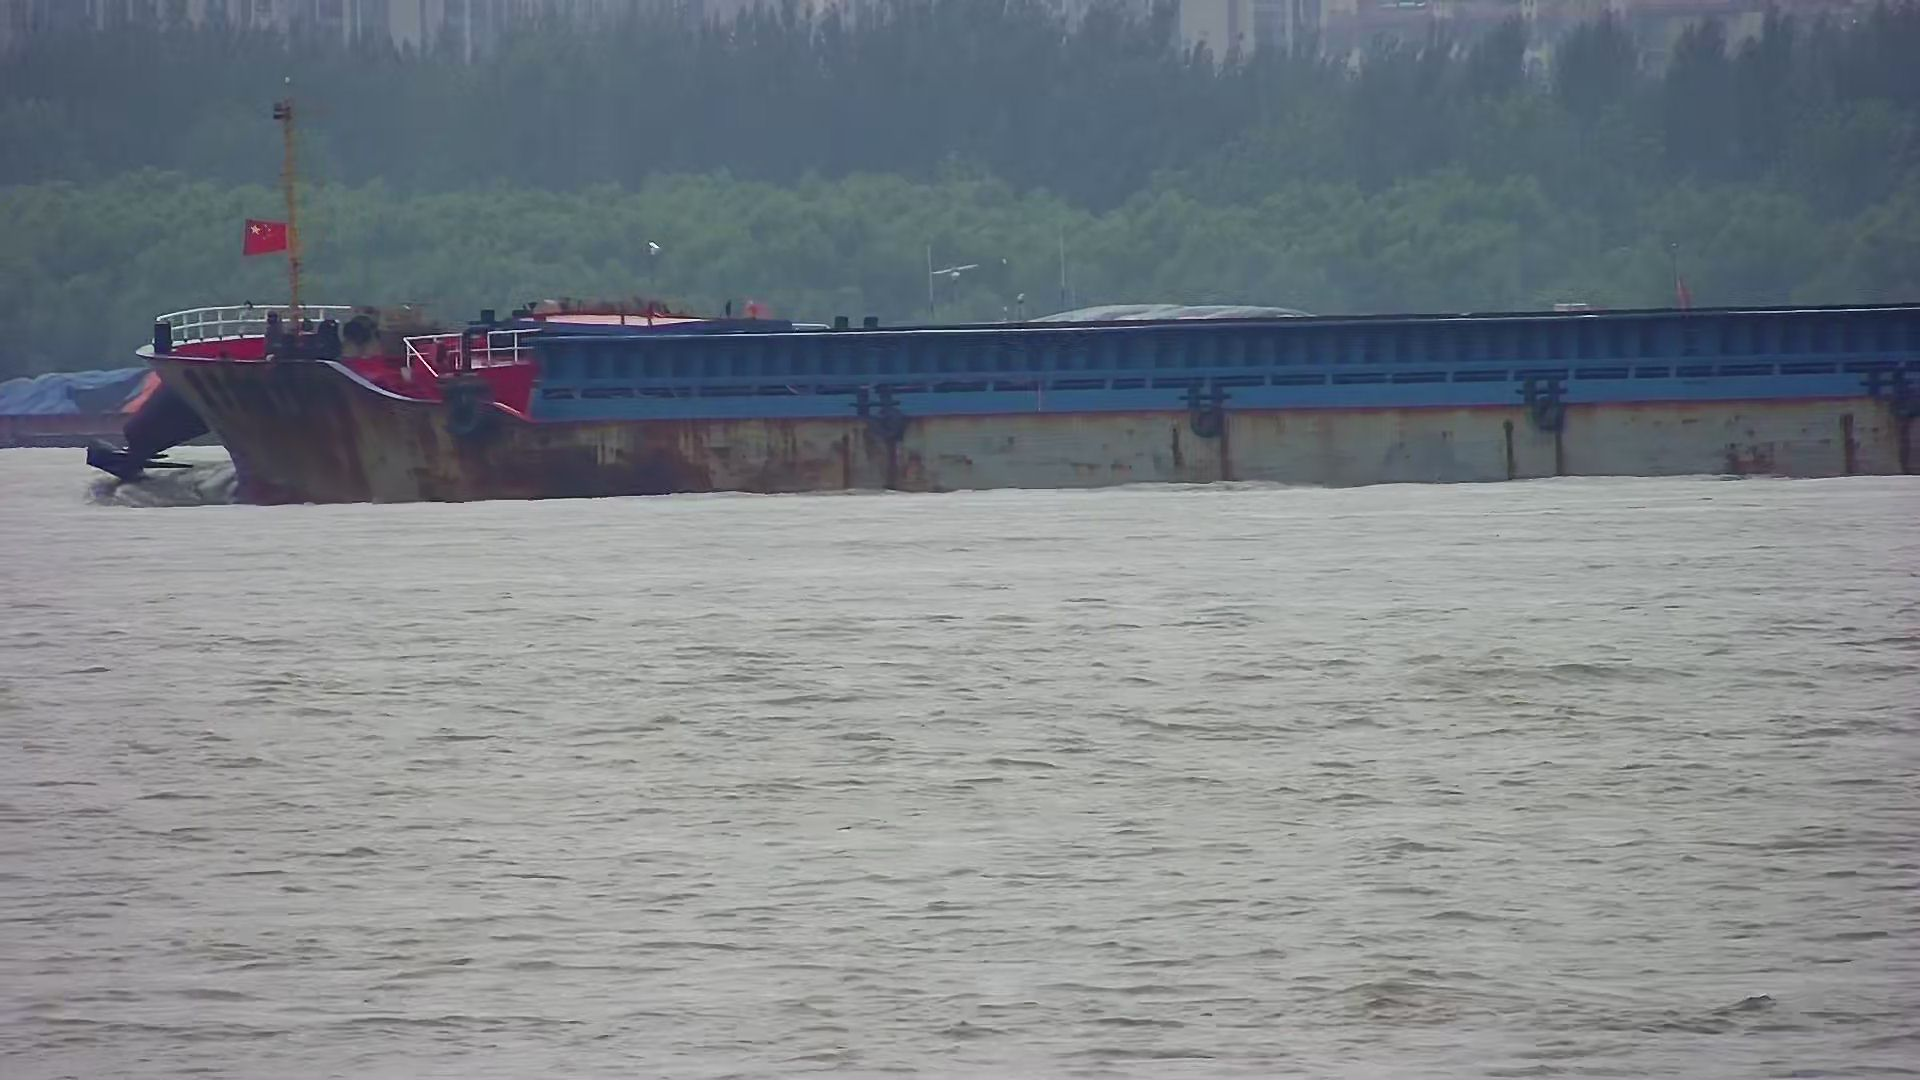ship: (113, 278, 1920, 504), (1, 368, 131, 448)
